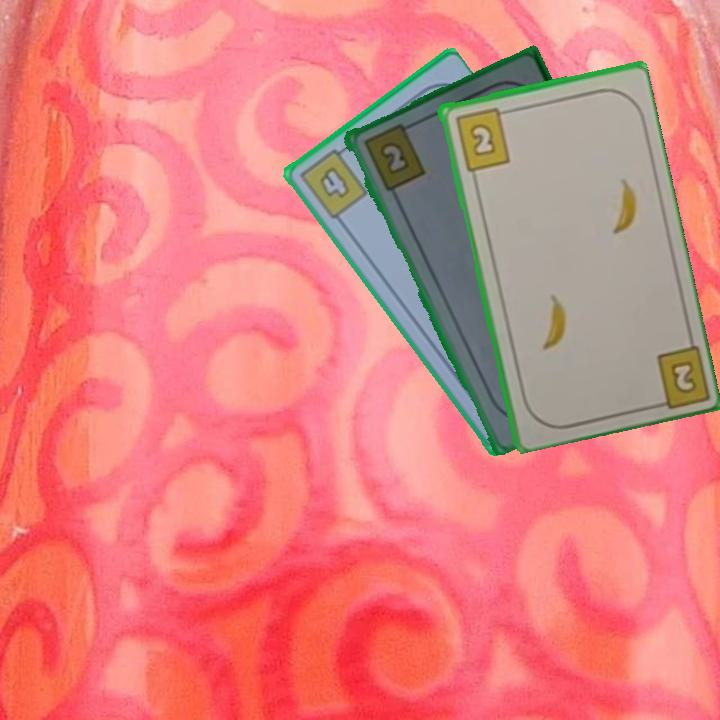2b: (359, 119, 428, 194), (645, 339, 710, 411), (451, 104, 513, 173)
4b: (295, 141, 371, 223)
